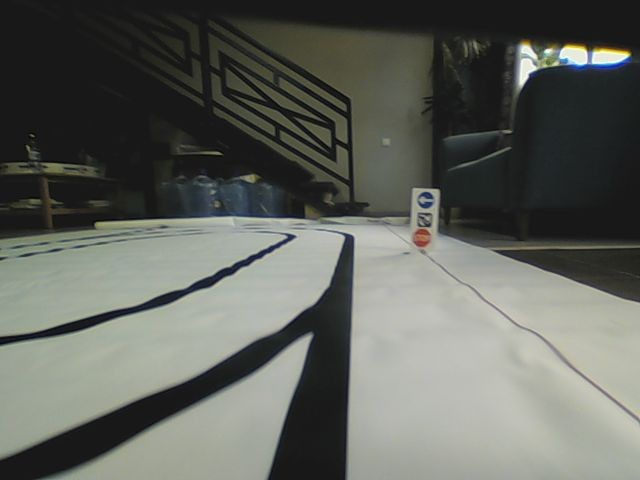Stop: (412, 227, 433, 248)
